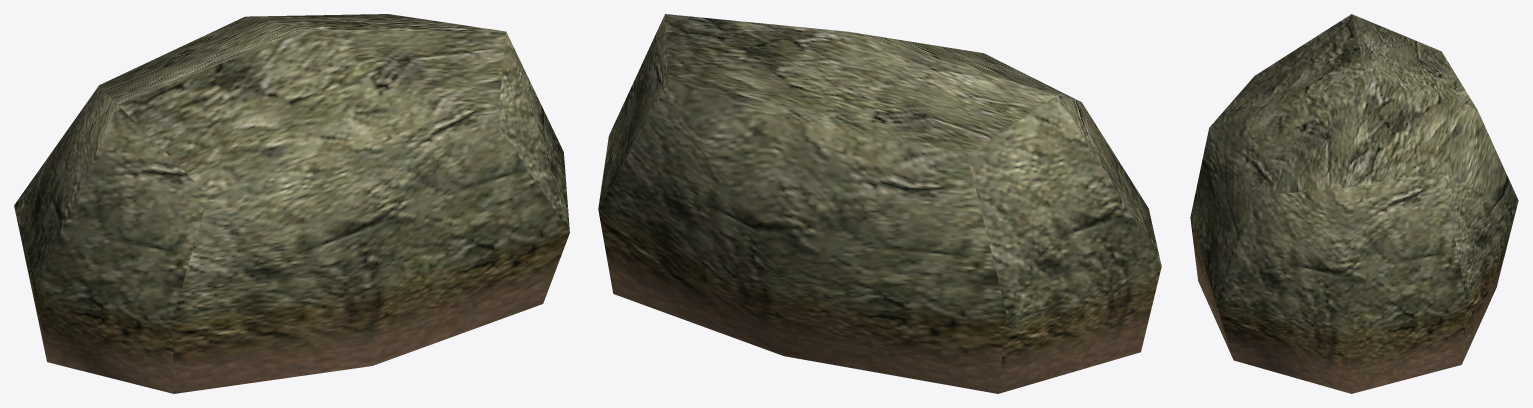
File: nast9.dae
3 renders of one model, left to right at view 1: azimuth 30°, elevation 25°; view 2: azimuth 150°, elevation 25°; view 3: azimuth 270°, elevation 25°, orthographic. The views are drawn at different scales.
Parts seen in each view (by area): view 1: stones01; view 2: stones01; view 3: stones01.
Boxes of the visible parts, bbox=[...] form: stones01: bbox=[14, 14, 569, 393]; stones01: bbox=[598, 14, 1161, 393]; stones01: bbox=[1190, 14, 1518, 393].
Bounding box in the file's own units: 4.98 × 3.14 × 2.29.
Materials: 1 (1 with a texture image).
